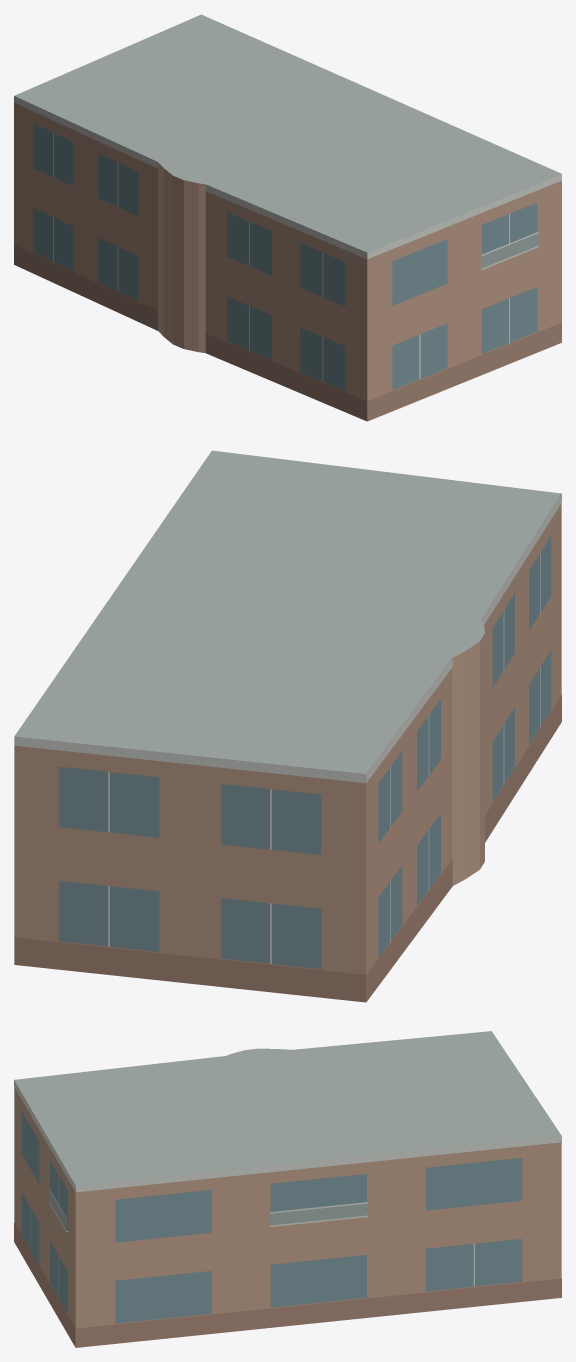
Rendered from survey-upis-32607885.glb.
The picture shows the model from 3 angles, top to bottom: view 1: azimuth 30°, elevation 25°; view 2: azimuth 150°, elevation 25°; view 3: azimuth 270°, elevation 25°; orthographic projection. The views are drawn at different scales.
Parts seen in each view (by area): view 1: survey-upis-32607885.tmp; view 2: survey-upis-32607885.tmp; view 3: survey-upis-32607885.tmp.
Part boxes in pixels (x1,y1,x2,y2): survey-upis-32607885.tmp: (14,14,561,421); survey-upis-32607885.tmp: (14,450,561,1002); survey-upis-32607885.tmp: (14,1031,561,1347).
Bounding box in the file's own units: 12.52 × 6.1 × 18.71.
